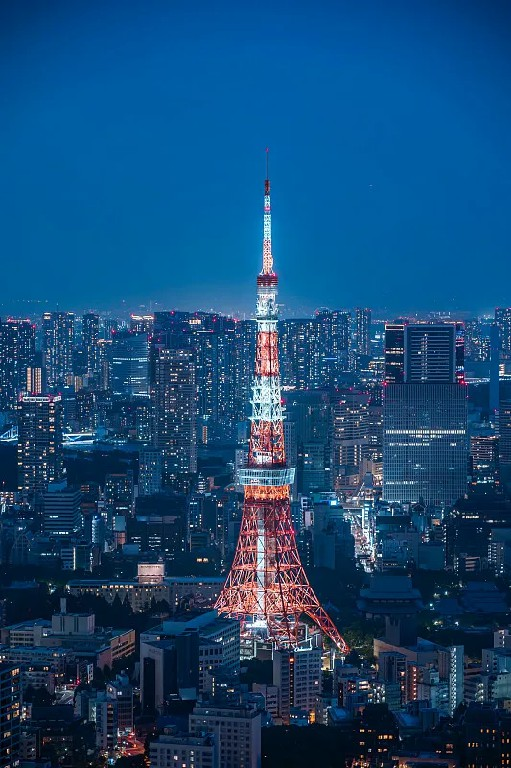Tokyo: (210, 145, 350, 659)
